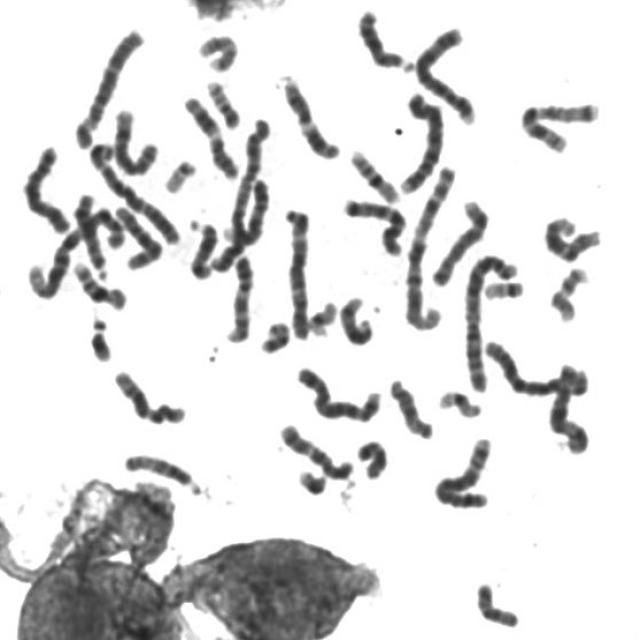A1: (398, 159, 460, 333), (21, 201, 126, 300)
A2: (208, 110, 276, 276), (457, 242, 524, 392)
A3: (82, 136, 182, 245), (278, 200, 316, 341)
B4: (409, 17, 481, 125), (393, 84, 448, 196)
B5: (291, 359, 386, 425), (428, 430, 497, 512)
C10: (274, 416, 358, 482), (109, 198, 166, 272)
C11: (276, 68, 344, 162), (178, 88, 243, 181)
C12: (108, 363, 190, 426), (539, 208, 605, 264)
C6: (68, 21, 148, 150), (479, 332, 594, 398)
C7: (514, 91, 604, 155), (337, 190, 410, 258)
C8: (425, 192, 493, 288), (107, 99, 162, 177)
C9: (214, 174, 273, 244), (220, 247, 258, 344)
D13: (352, 1, 417, 73), (66, 186, 112, 281)
D14: (183, 211, 220, 281), (334, 288, 378, 346)
D15: (119, 445, 204, 494), (384, 371, 438, 441)
E16: (345, 141, 404, 204), (68, 254, 130, 312)
E17: (545, 259, 593, 323), (192, 27, 242, 72)
E18: (470, 574, 524, 630), (352, 432, 392, 481)
F19: (433, 382, 486, 420), (302, 294, 341, 338)
F20: (200, 72, 244, 130), (254, 313, 294, 355)
G21: (84, 310, 116, 364), (292, 462, 332, 497)
G22: (159, 150, 201, 194), (478, 272, 529, 302)
X: (16, 137, 75, 235), (544, 358, 594, 455)
